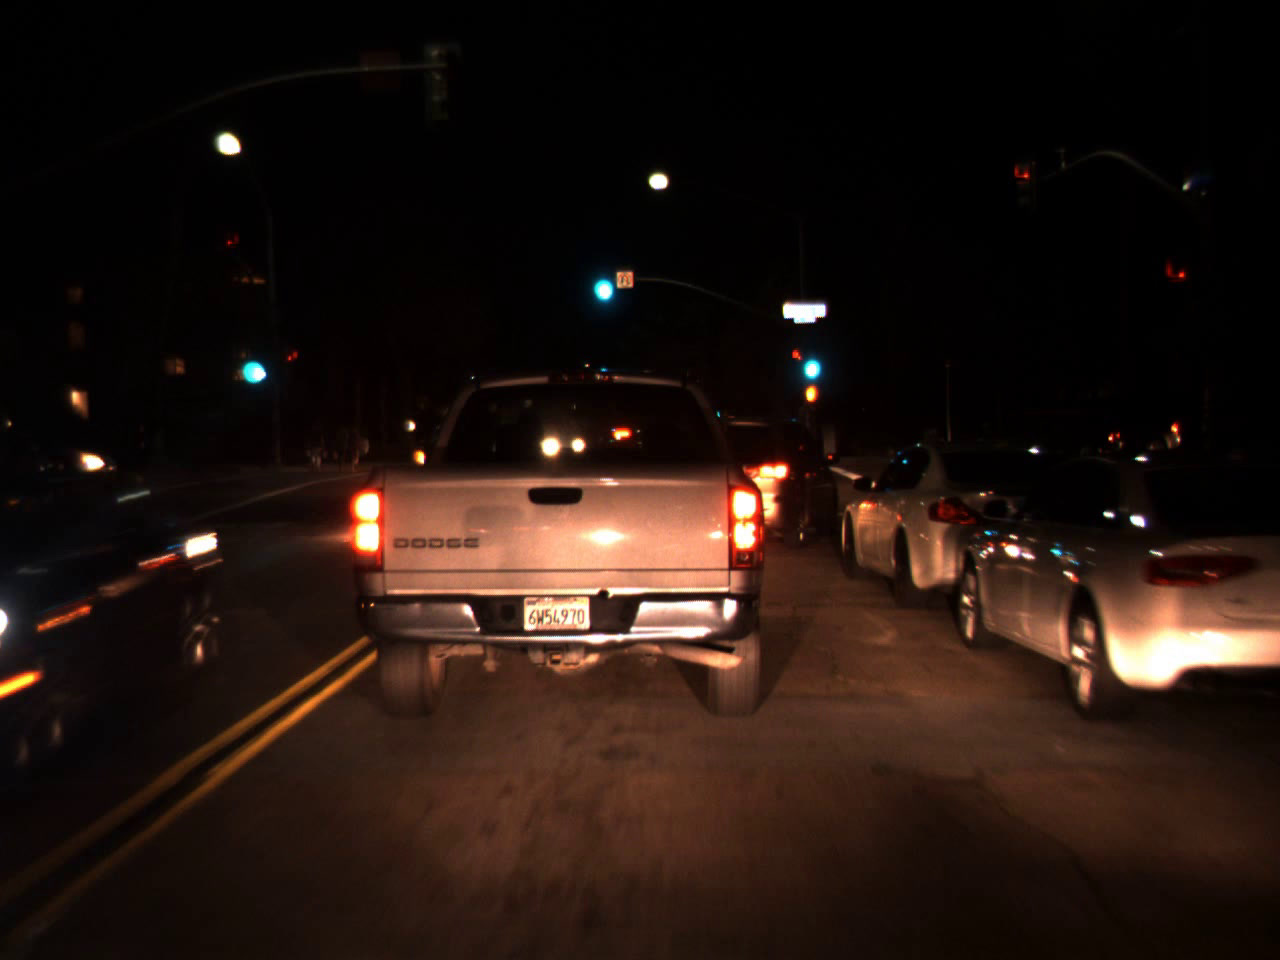go: (234, 334, 270, 391), (586, 250, 616, 310), (796, 333, 824, 387)
